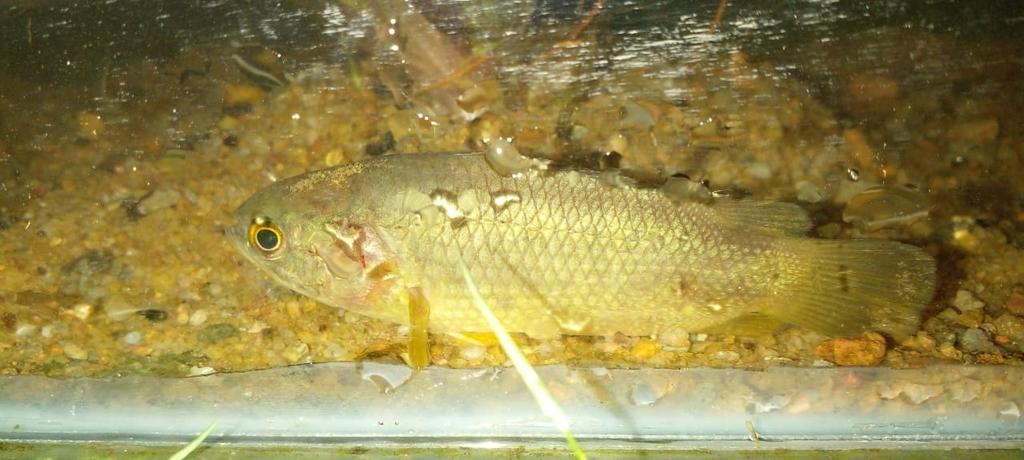Climbing Perch: (229, 147, 939, 373)
